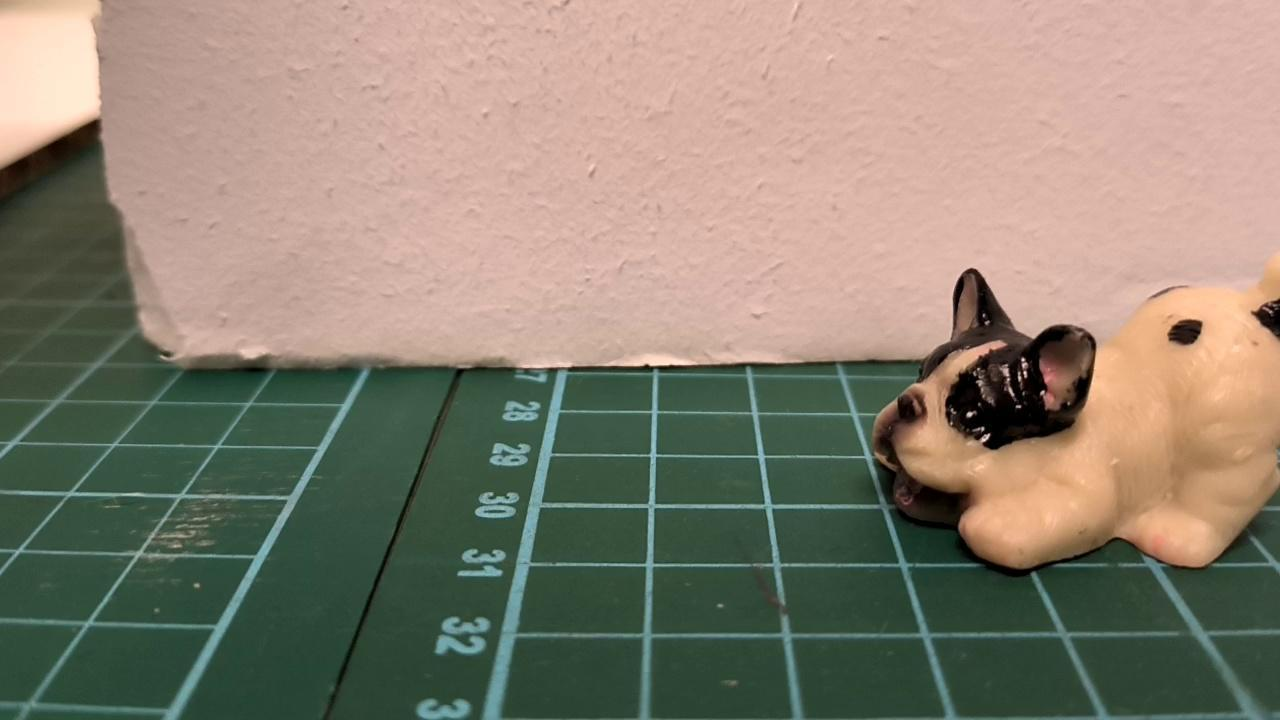pet: (867, 269, 1280, 576)
